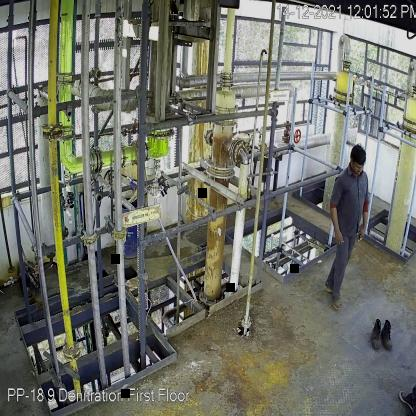no_shoes: (325, 282, 342, 300)
shoes: (380, 317, 396, 356), (368, 318, 382, 350)
